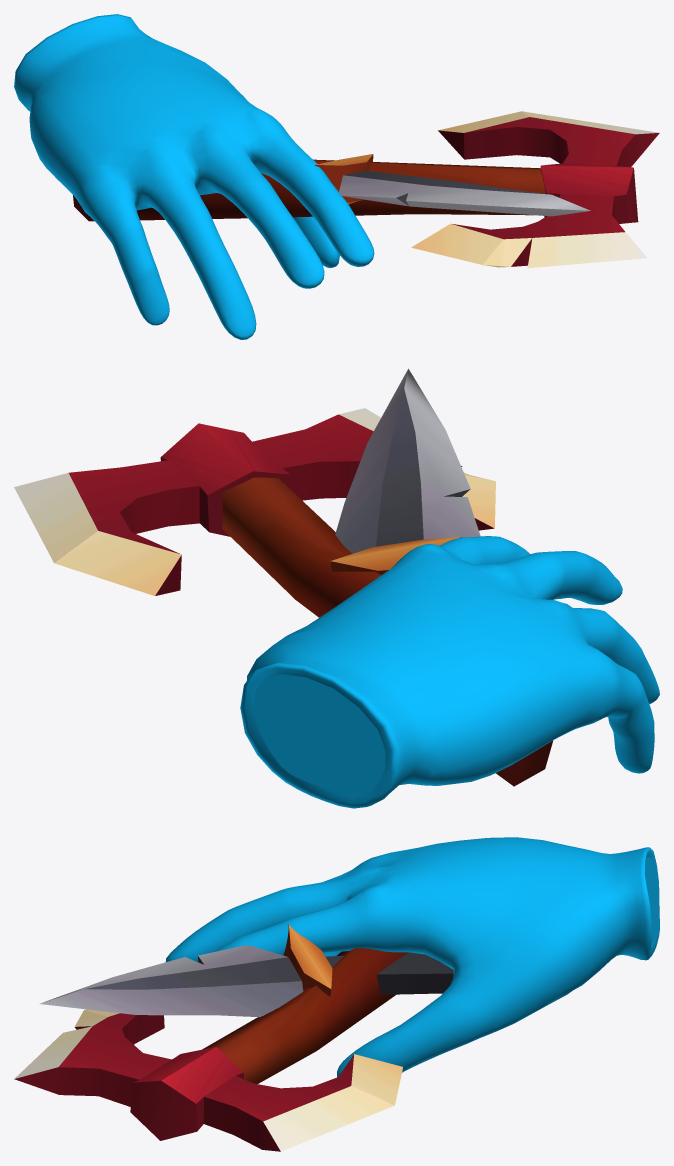
The model's file is KunaiHand.fbx.
3 renders of one model, top to bottom at view 1: azimuth 30°, elevation 25°; view 2: azimuth 150°, elevation 25°; view 3: azimuth 270°, elevation 25°, orthographic. The views are drawn at different scales.
Parts seen in each view (by area): view 1: RightHand_Solo1, throwingaxe15_grey, throwingknife09_grey; view 2: RightHand_Solo1, throwingaxe15_grey, throwingknife09_grey; view 3: RightHand_Solo1, throwingaxe15_grey, throwingknife09_grey.
Boxes of the visible parts, x1,y1,x2,y2 form: RightHand_Solo1: (14, 14, 374, 339); throwingaxe15_grey: (73, 111, 659, 268); throwingknife09_grey: (315, 154, 590, 216); RightHand_Solo1: (240, 536, 659, 808); throwingaxe15_grey: (14, 408, 553, 786); throwingknife09_grey: (330, 368, 480, 574); RightHand_Solo1: (165, 837, 659, 1077); throwingaxe15_grey: (14, 947, 408, 1151); throwingknife09_grey: (39, 925, 453, 1017).
Bounding box in the file's own units: 0.7624 × 0.2422 × 0.7835.
2 materials, 1 textured.
